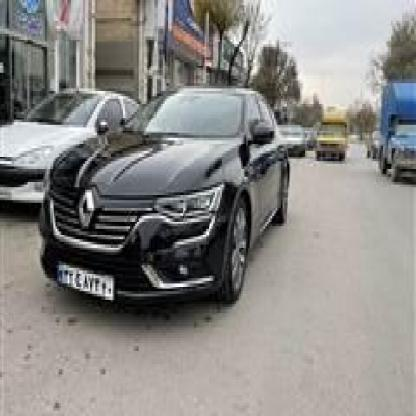Car: (31, 86, 293, 320), (0, 86, 144, 210), (372, 75, 416, 184), (310, 104, 354, 159), (277, 122, 307, 156)
